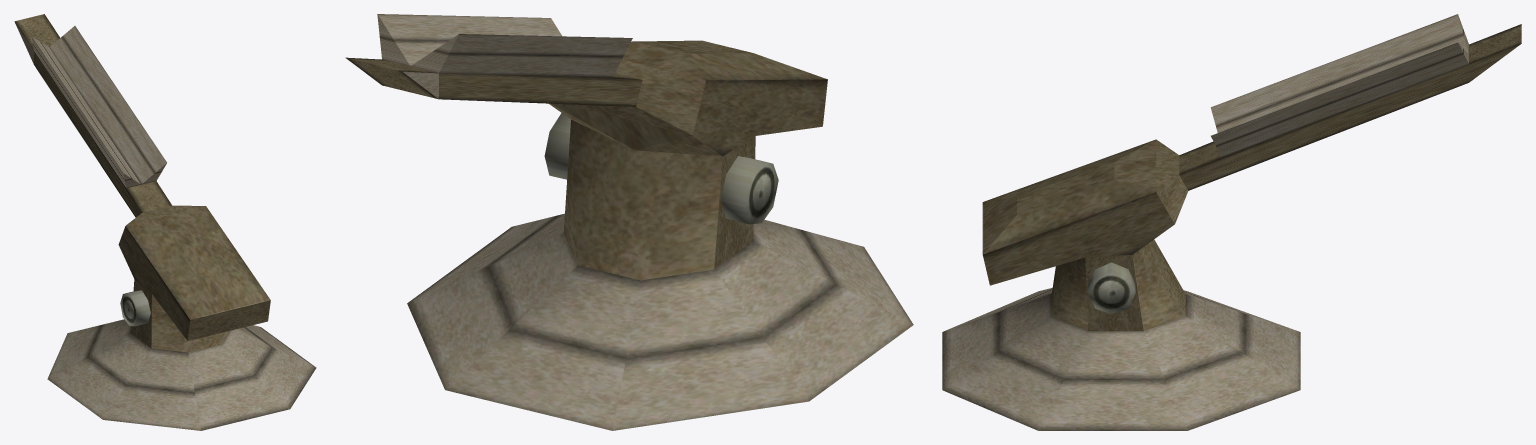
File: SAM_LAUNCHER01.glb
3 renders of one model, left to right at view 1: azimuth 30°, elevation 25°; view 2: azimuth 150°, elevation 25°; view 3: azimuth 270°, elevation 25°, orthographic. The views are drawn at different scales.
Parts seen in each view (by area): view 1: SAM_LAUNCHER01; view 2: SAM_LAUNCHER01; view 3: SAM_LAUNCHER01.
Boxes of the visible parts, x1,y1,x2,y2 form: SAM_LAUNCHER01: (14,14,316,430); SAM_LAUNCHER01: (345,14,913,430); SAM_LAUNCHER01: (942,14,1521,430).
Bounding box in the file's own units: 1.6 × 1.78 × 2.81.
1 material, 1 textured.
